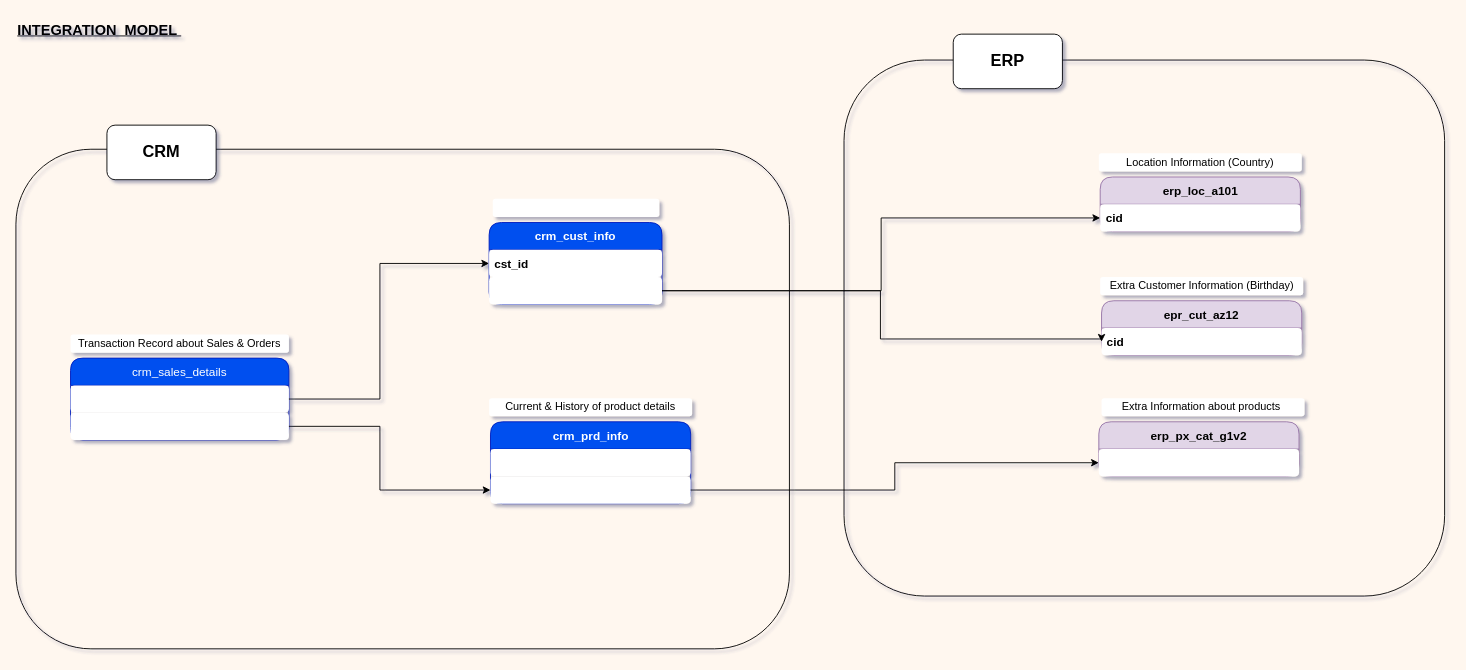
The diagram is 1466 pixels wide and 670 high, and some of its shapes have lost their labels. The shapes that lost their labels are listed below. From the top down, each one's centre as x and y in pixels, then its label:
point (575, 207): customer information
point (575, 290): cst_key
point (179, 398): sls_cust_id
point (179, 426): sls_prd_key
point (590, 462): prd_id
point (1198, 462): id
point (590, 489): prd_key
